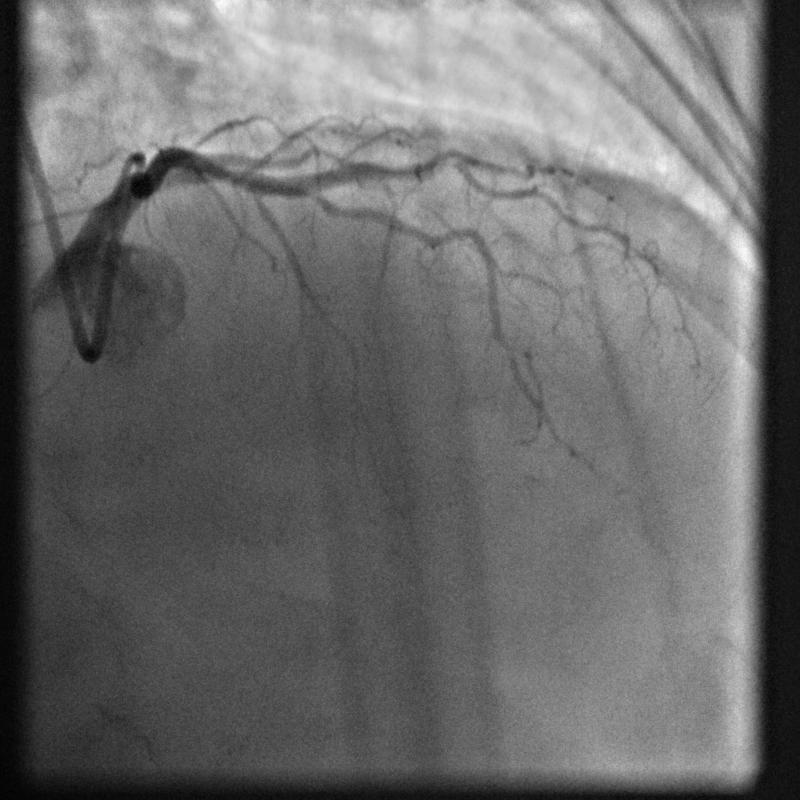Stenosis: (213, 166, 266, 193)
